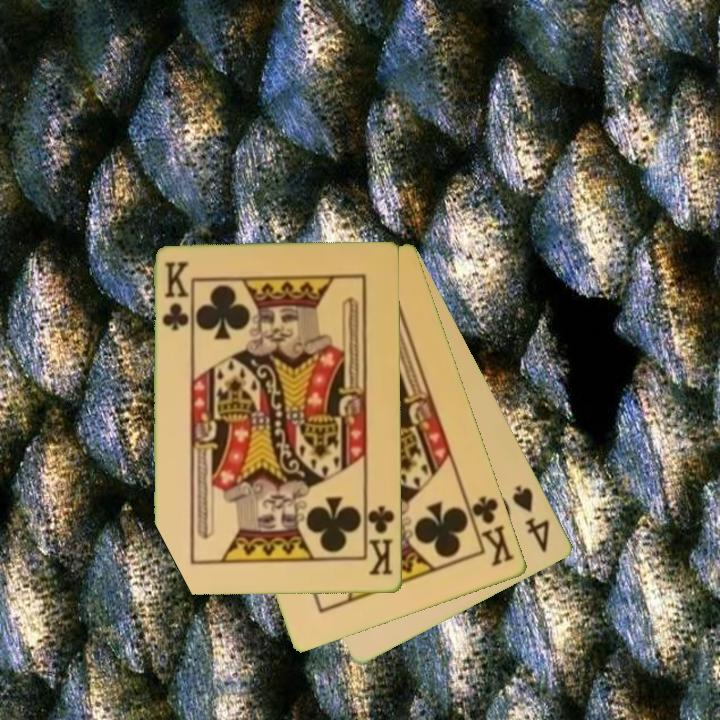4s: (509, 481, 554, 556)
Kc: (463, 492, 518, 570), (363, 499, 397, 578), (159, 259, 190, 334)
